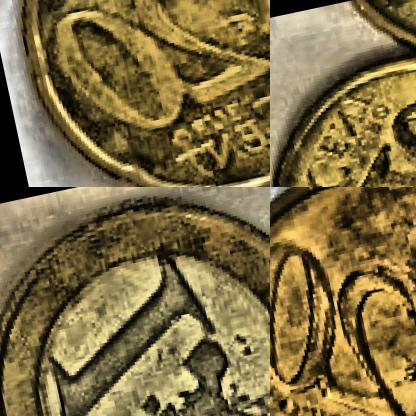coin: (0, 187, 269, 415), (0, 0, 269, 186), (270, 187, 415, 415), (270, 24, 415, 186)
